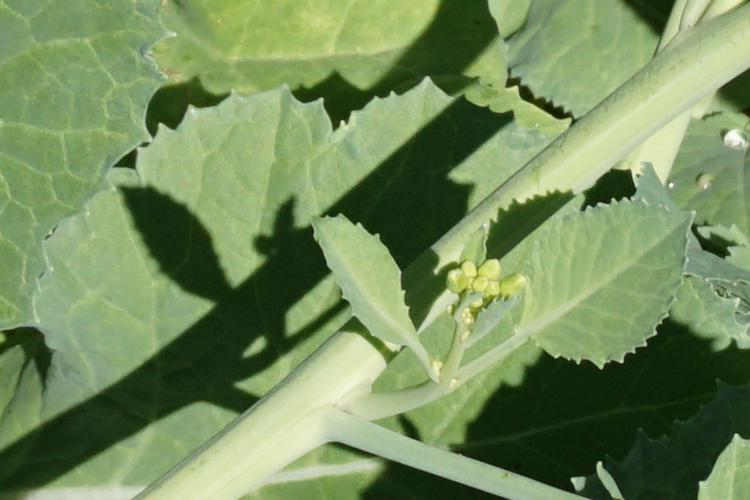bud: (496, 273, 529, 298), (479, 259, 504, 280), (448, 270, 468, 295), (468, 277, 487, 298), (484, 281, 501, 301), (465, 261, 480, 279)
